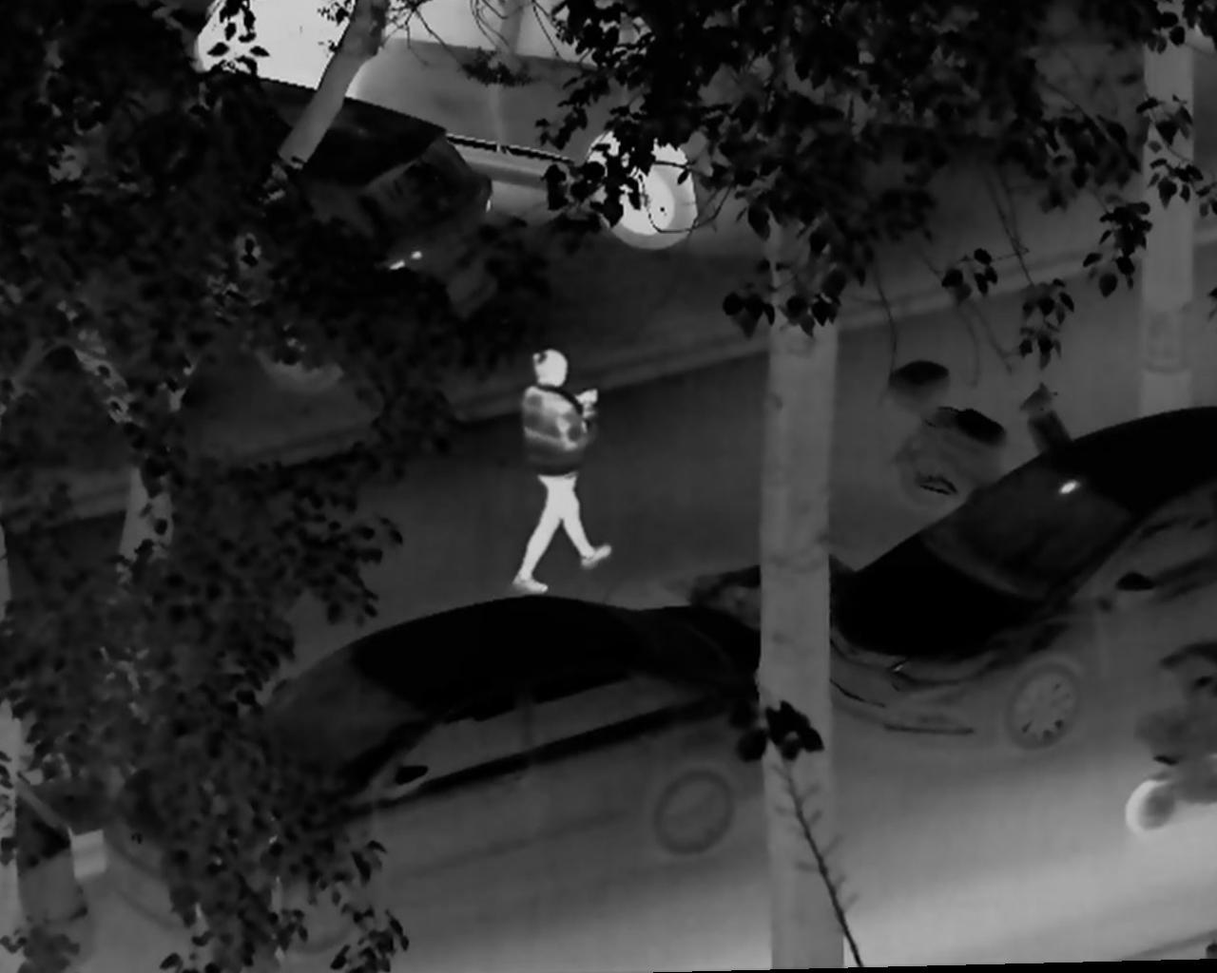person: (504, 348, 614, 598)
